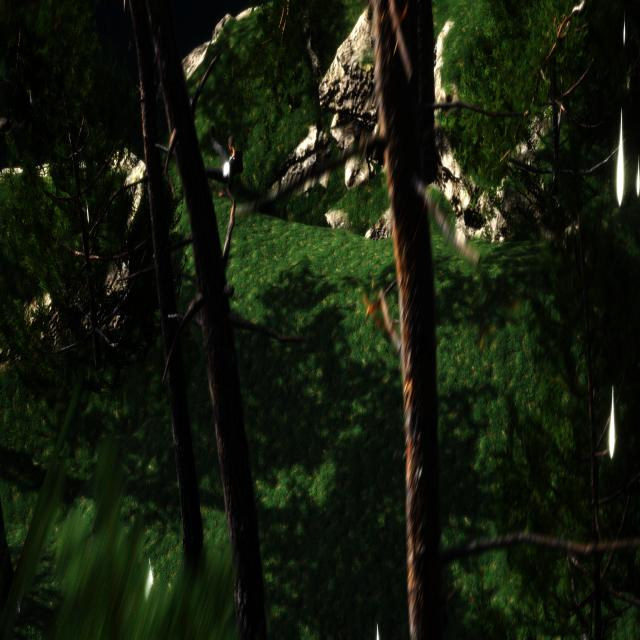Human: (201, 123, 245, 191)
